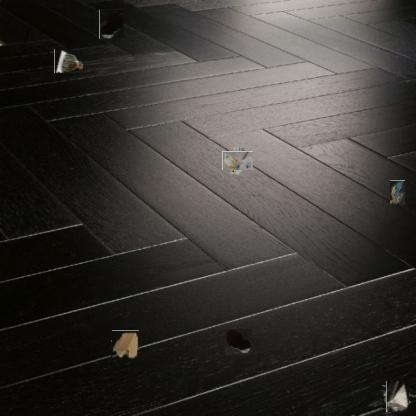dirty: (111, 330, 139, 359), (384, 383, 412, 410), (54, 49, 83, 73), (225, 148, 250, 173), (389, 180, 405, 205)
liquid: (99, 9, 124, 39), (226, 329, 254, 355)
